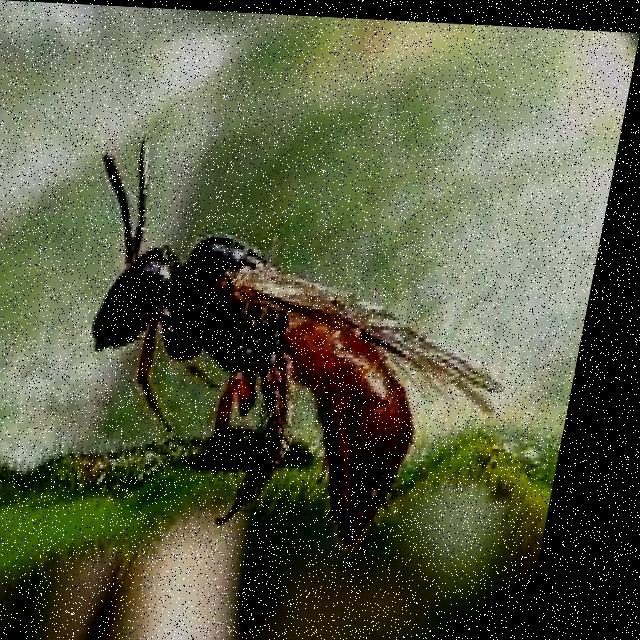Allodapula: (41, 117, 552, 559)
